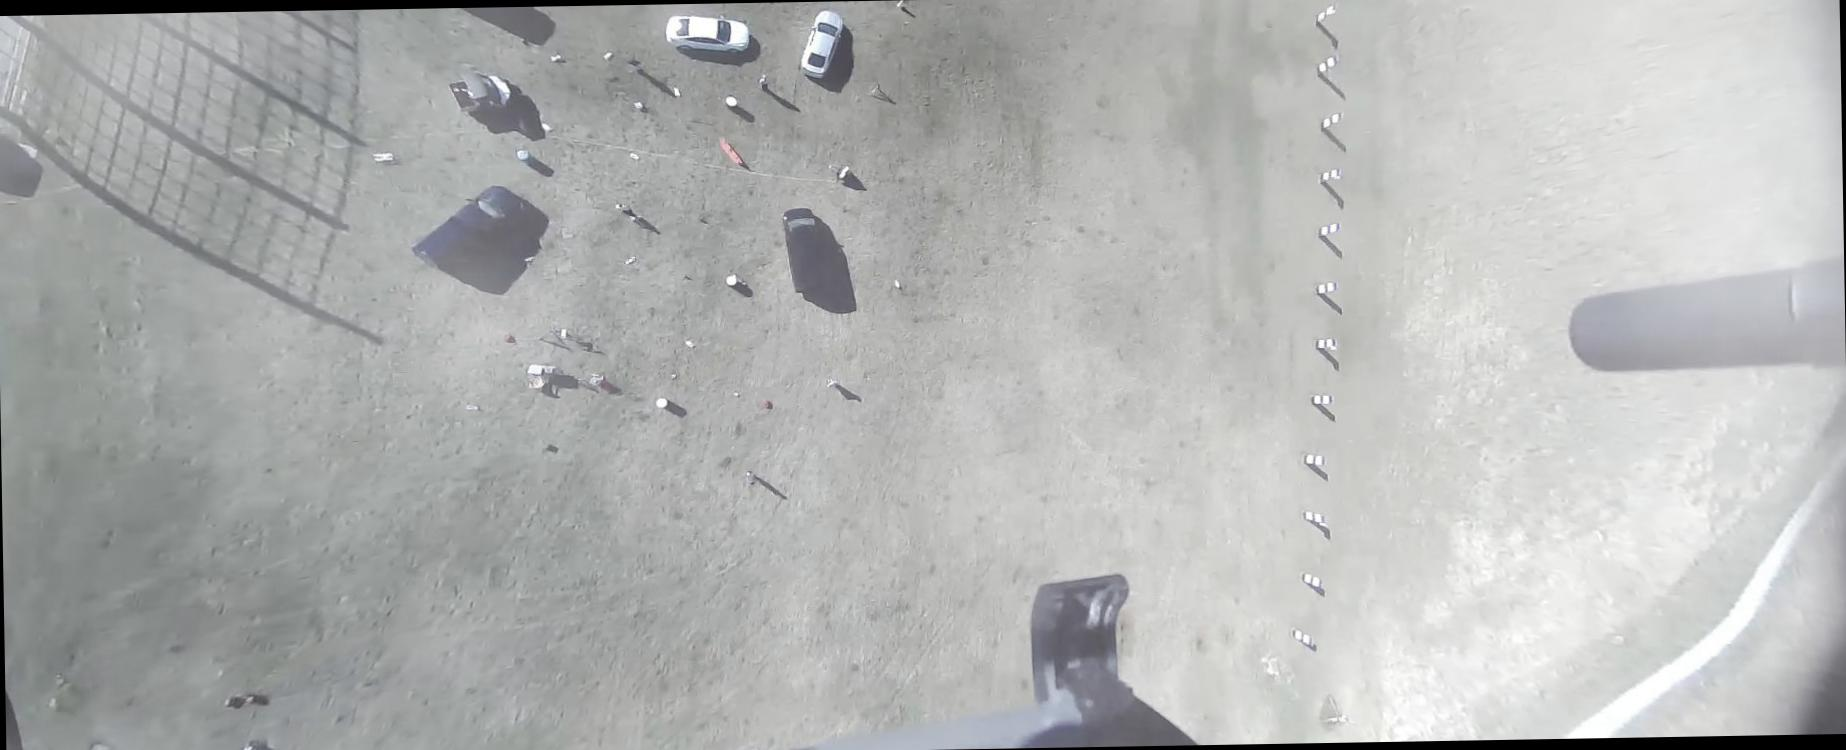vehicle: (411, 186, 524, 271), (782, 208, 825, 294), (664, 14, 750, 54), (797, 9, 843, 80), (446, 69, 511, 112), (462, 8, 543, 40)
